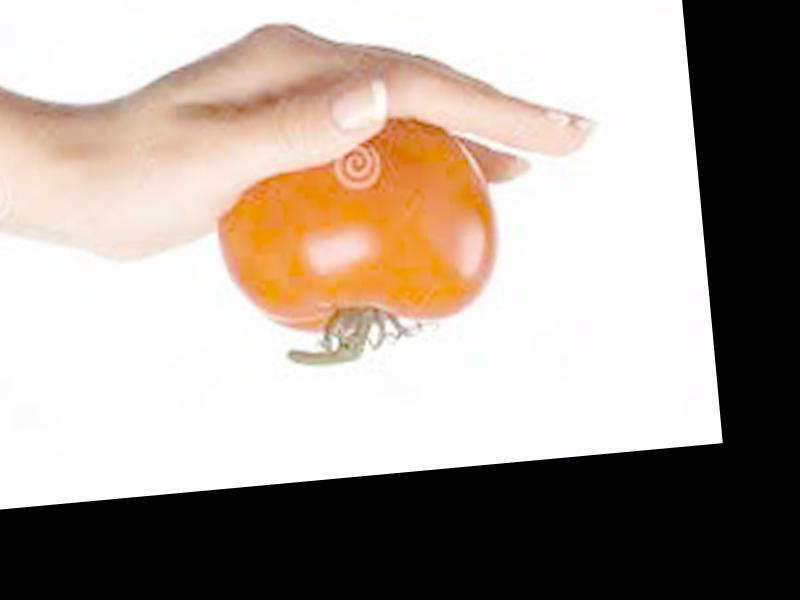Tomato: (209, 111, 504, 340)
